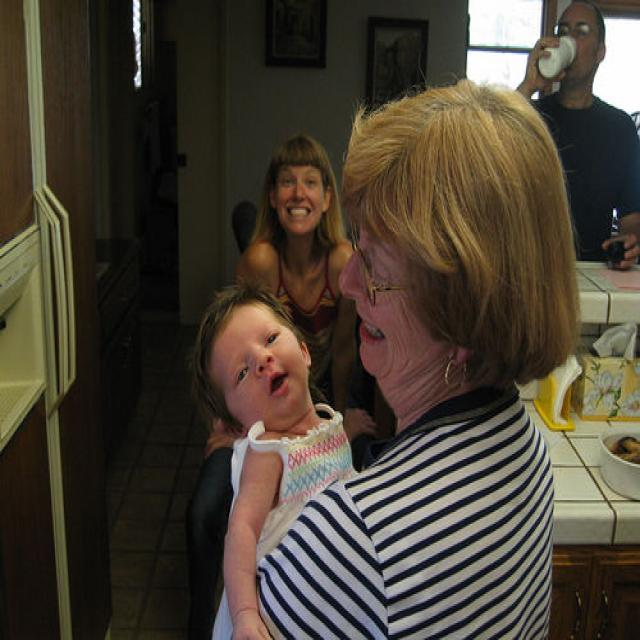person: (230, 85, 580, 639), (194, 286, 358, 639), (241, 131, 369, 441), (517, 3, 640, 267)
